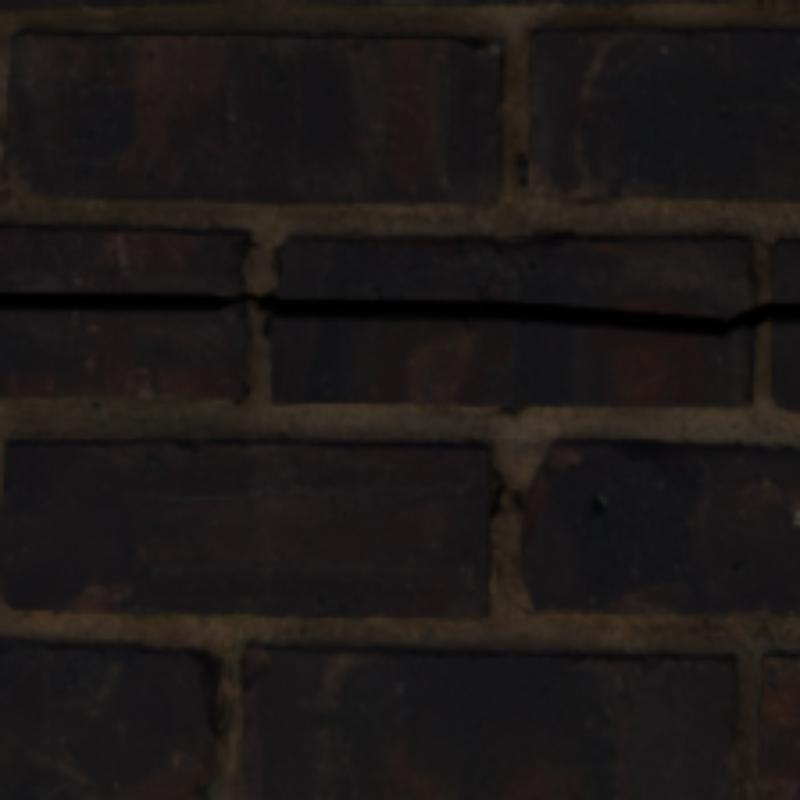pothole: (0, 293, 796, 336)
